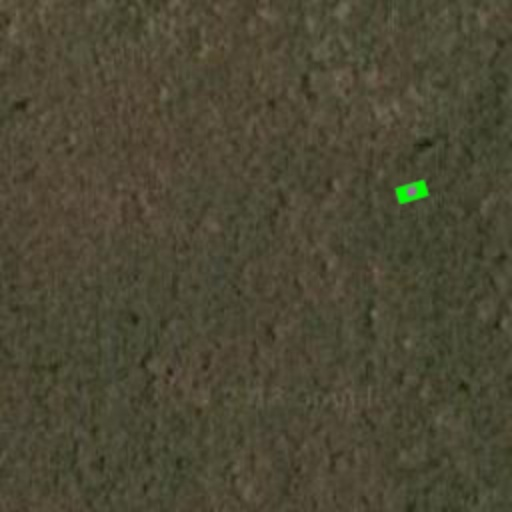rectangle: (392, 172, 432, 212)
